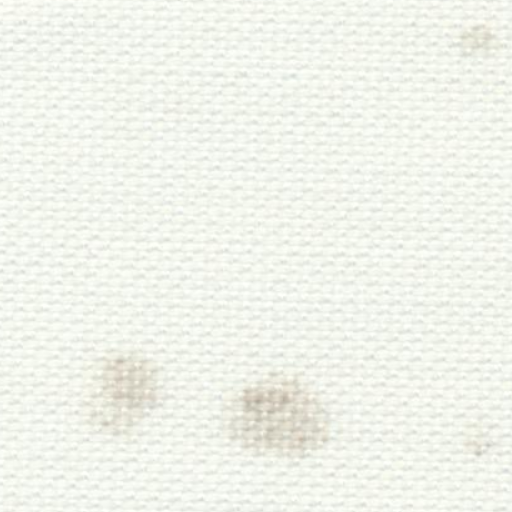WuZi: (212, 348, 348, 474), (64, 330, 173, 450), (440, 14, 500, 78)
